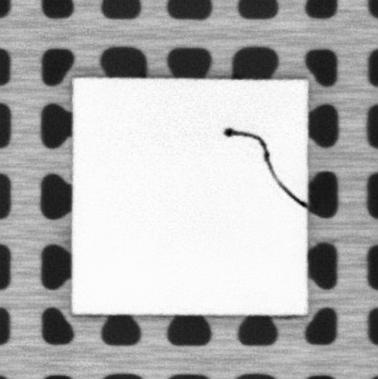DIE_INK: (224, 127, 306, 206)
